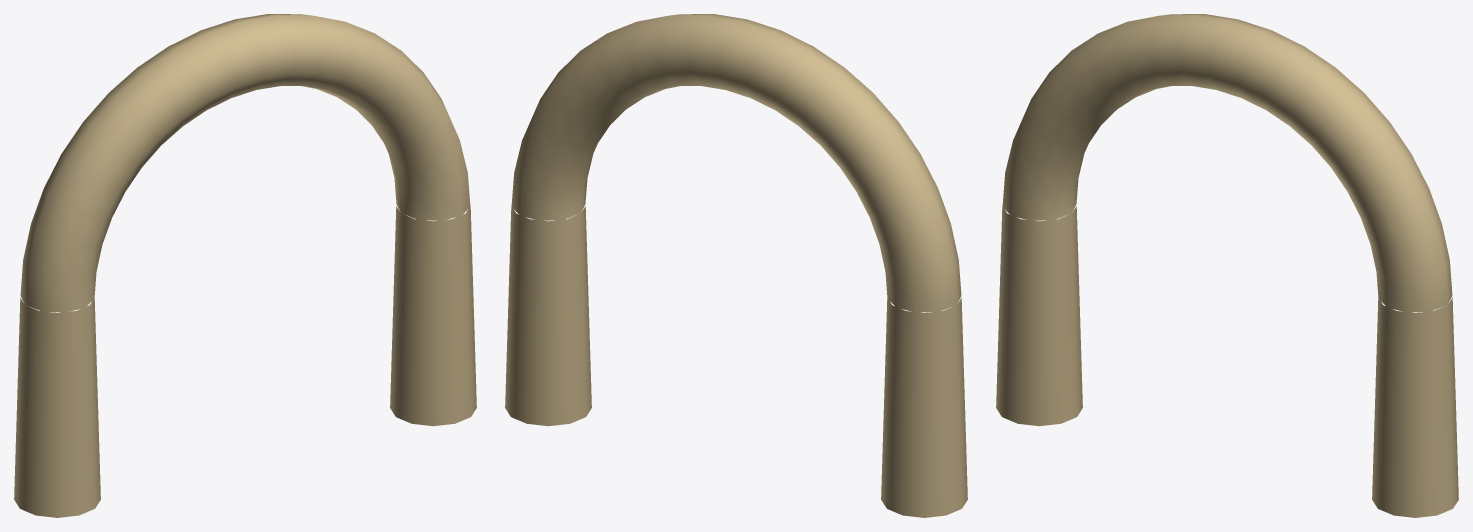
Rendered from arch_ring.glb.
The picture shows the model from 3 angles, left to right: view 1: azimuth 30°, elevation 25°; view 2: azimuth 150°, elevation 25°; view 3: azimuth 330°, elevation 25°; orthographic projection.
Visible parts, largest first — view 1: arch_ring; view 2: arch_ring; view 3: arch_ring.
Part boxes in pixels (box(x1,y1,x2,y2)): arch_ring: box(14, 14, 476, 517); arch_ring: box(505, 14, 967, 517); arch_ring: box(996, 14, 1458, 517).
Bounding box in the file's own units: 0.84 × 0.77 × 0.14.
